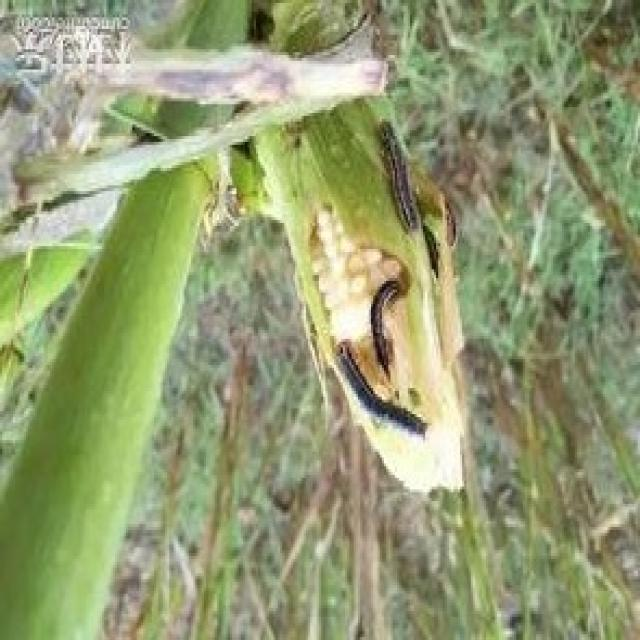army worm: (332, 341, 429, 443), (375, 121, 421, 240), (356, 275, 406, 382)
